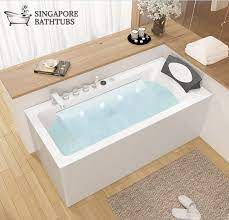bathub: (22, 50, 214, 210)
